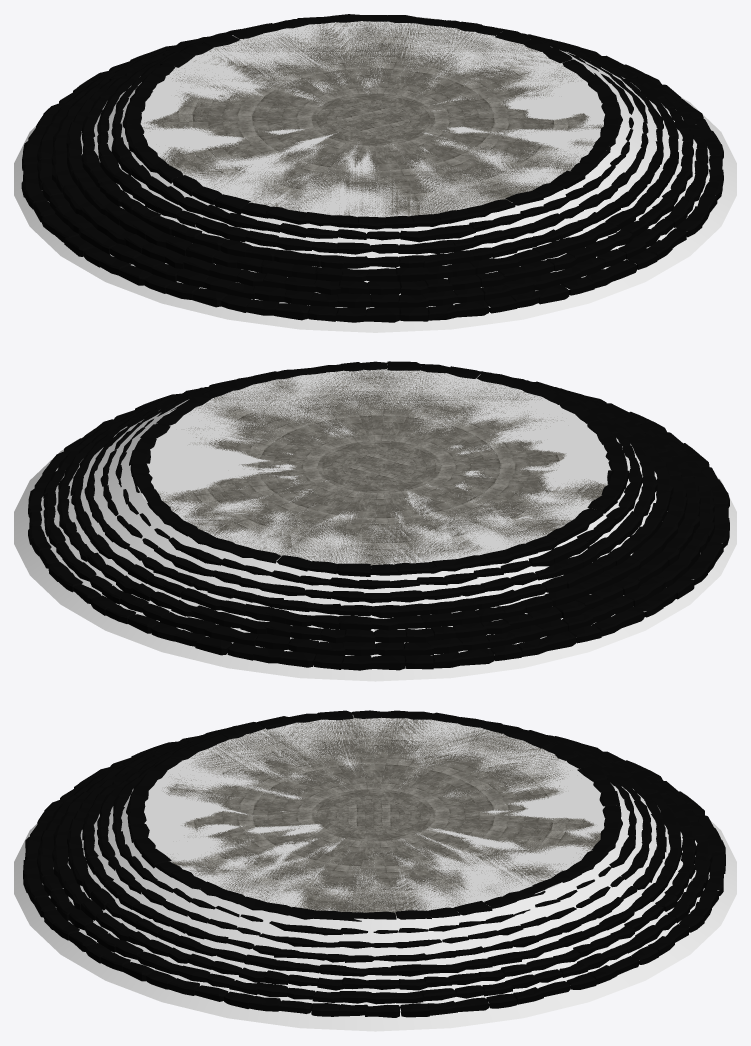
File: stair_mawari.FBX
3 views of the same model, one above another, from view 1: azimuth 30°, elevation 25°; view 2: azimuth 150°, elevation 25°; view 3: azimuth 270°, elevation 25° (orthographic).
Visible parts, largest first — view 1: Stair_Mawari, mawari_stair; view 2: Stair_Mawari, mawari_stair; view 3: Stair_Mawari, mawari_stair.
Part boxes in pixels (<box>): Stair_Mawari: <box>21,14,723,322</box>; mawari_stair: <box>14,17,736,332</box>; Stair_Mawari: <box>28,361,729,670</box>; mawari_stair: <box>14,364,736,681</box>; Stair_Mawari: <box>23,710,725,1017</box>; mawari_stair: <box>14,715,736,1031</box>.
Size of the model in its own units: 3062 by 291 by 3045.
